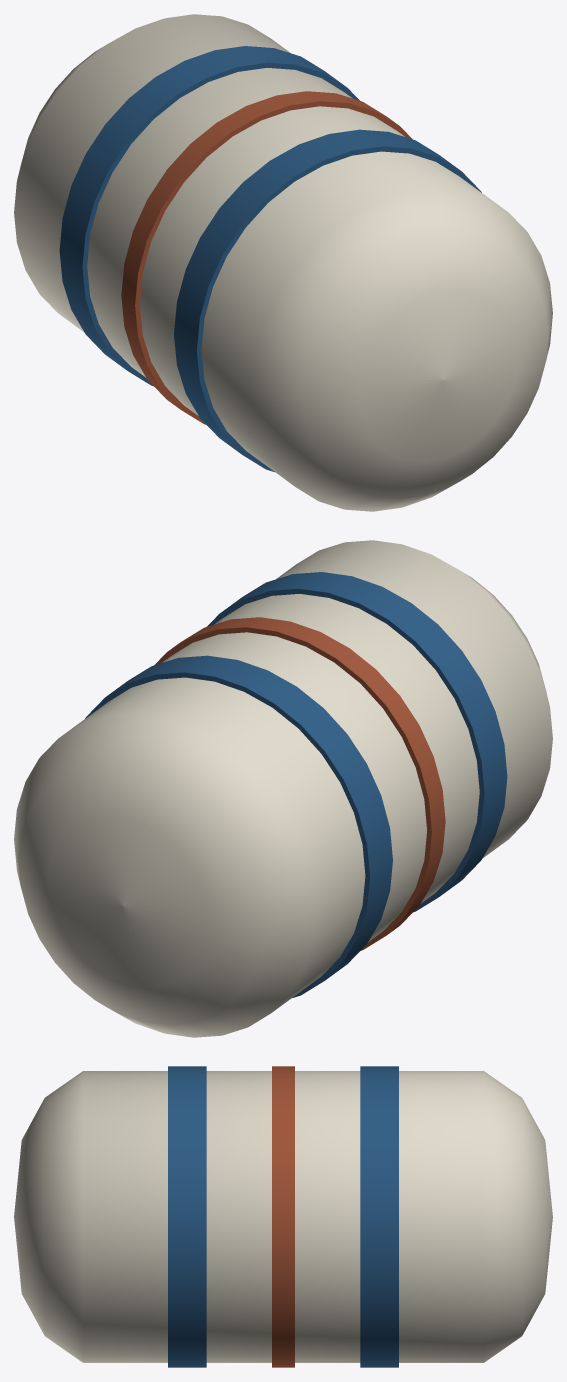
The model's file is jcharge_shell.obj.
The picture shows the model from 3 angles, top to bottom: view 1: azimuth 30°, elevation 25°; view 2: azimuth 150°, elevation 25°; view 3: azimuth 270°, elevation 25°; orthographic projection. The views are drawn at different scales.
Parts seen in each view (by area): view 1: jcharge_shell; view 2: jcharge_shell; view 3: jcharge_shell.
Boxes of the visible parts, box(x1,y1,x2,y2) form: jcharge_shell: box(14, 14, 552, 511); jcharge_shell: box(14, 540, 552, 1037); jcharge_shell: box(14, 1066, 552, 1367).
Size of the model in its own units: 0.784 by 0.784 by 1.4.
